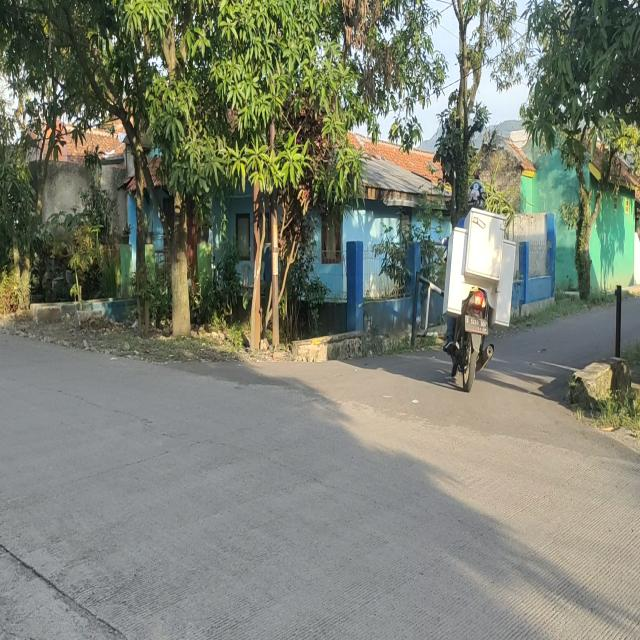helmet: (465, 178, 488, 216)
